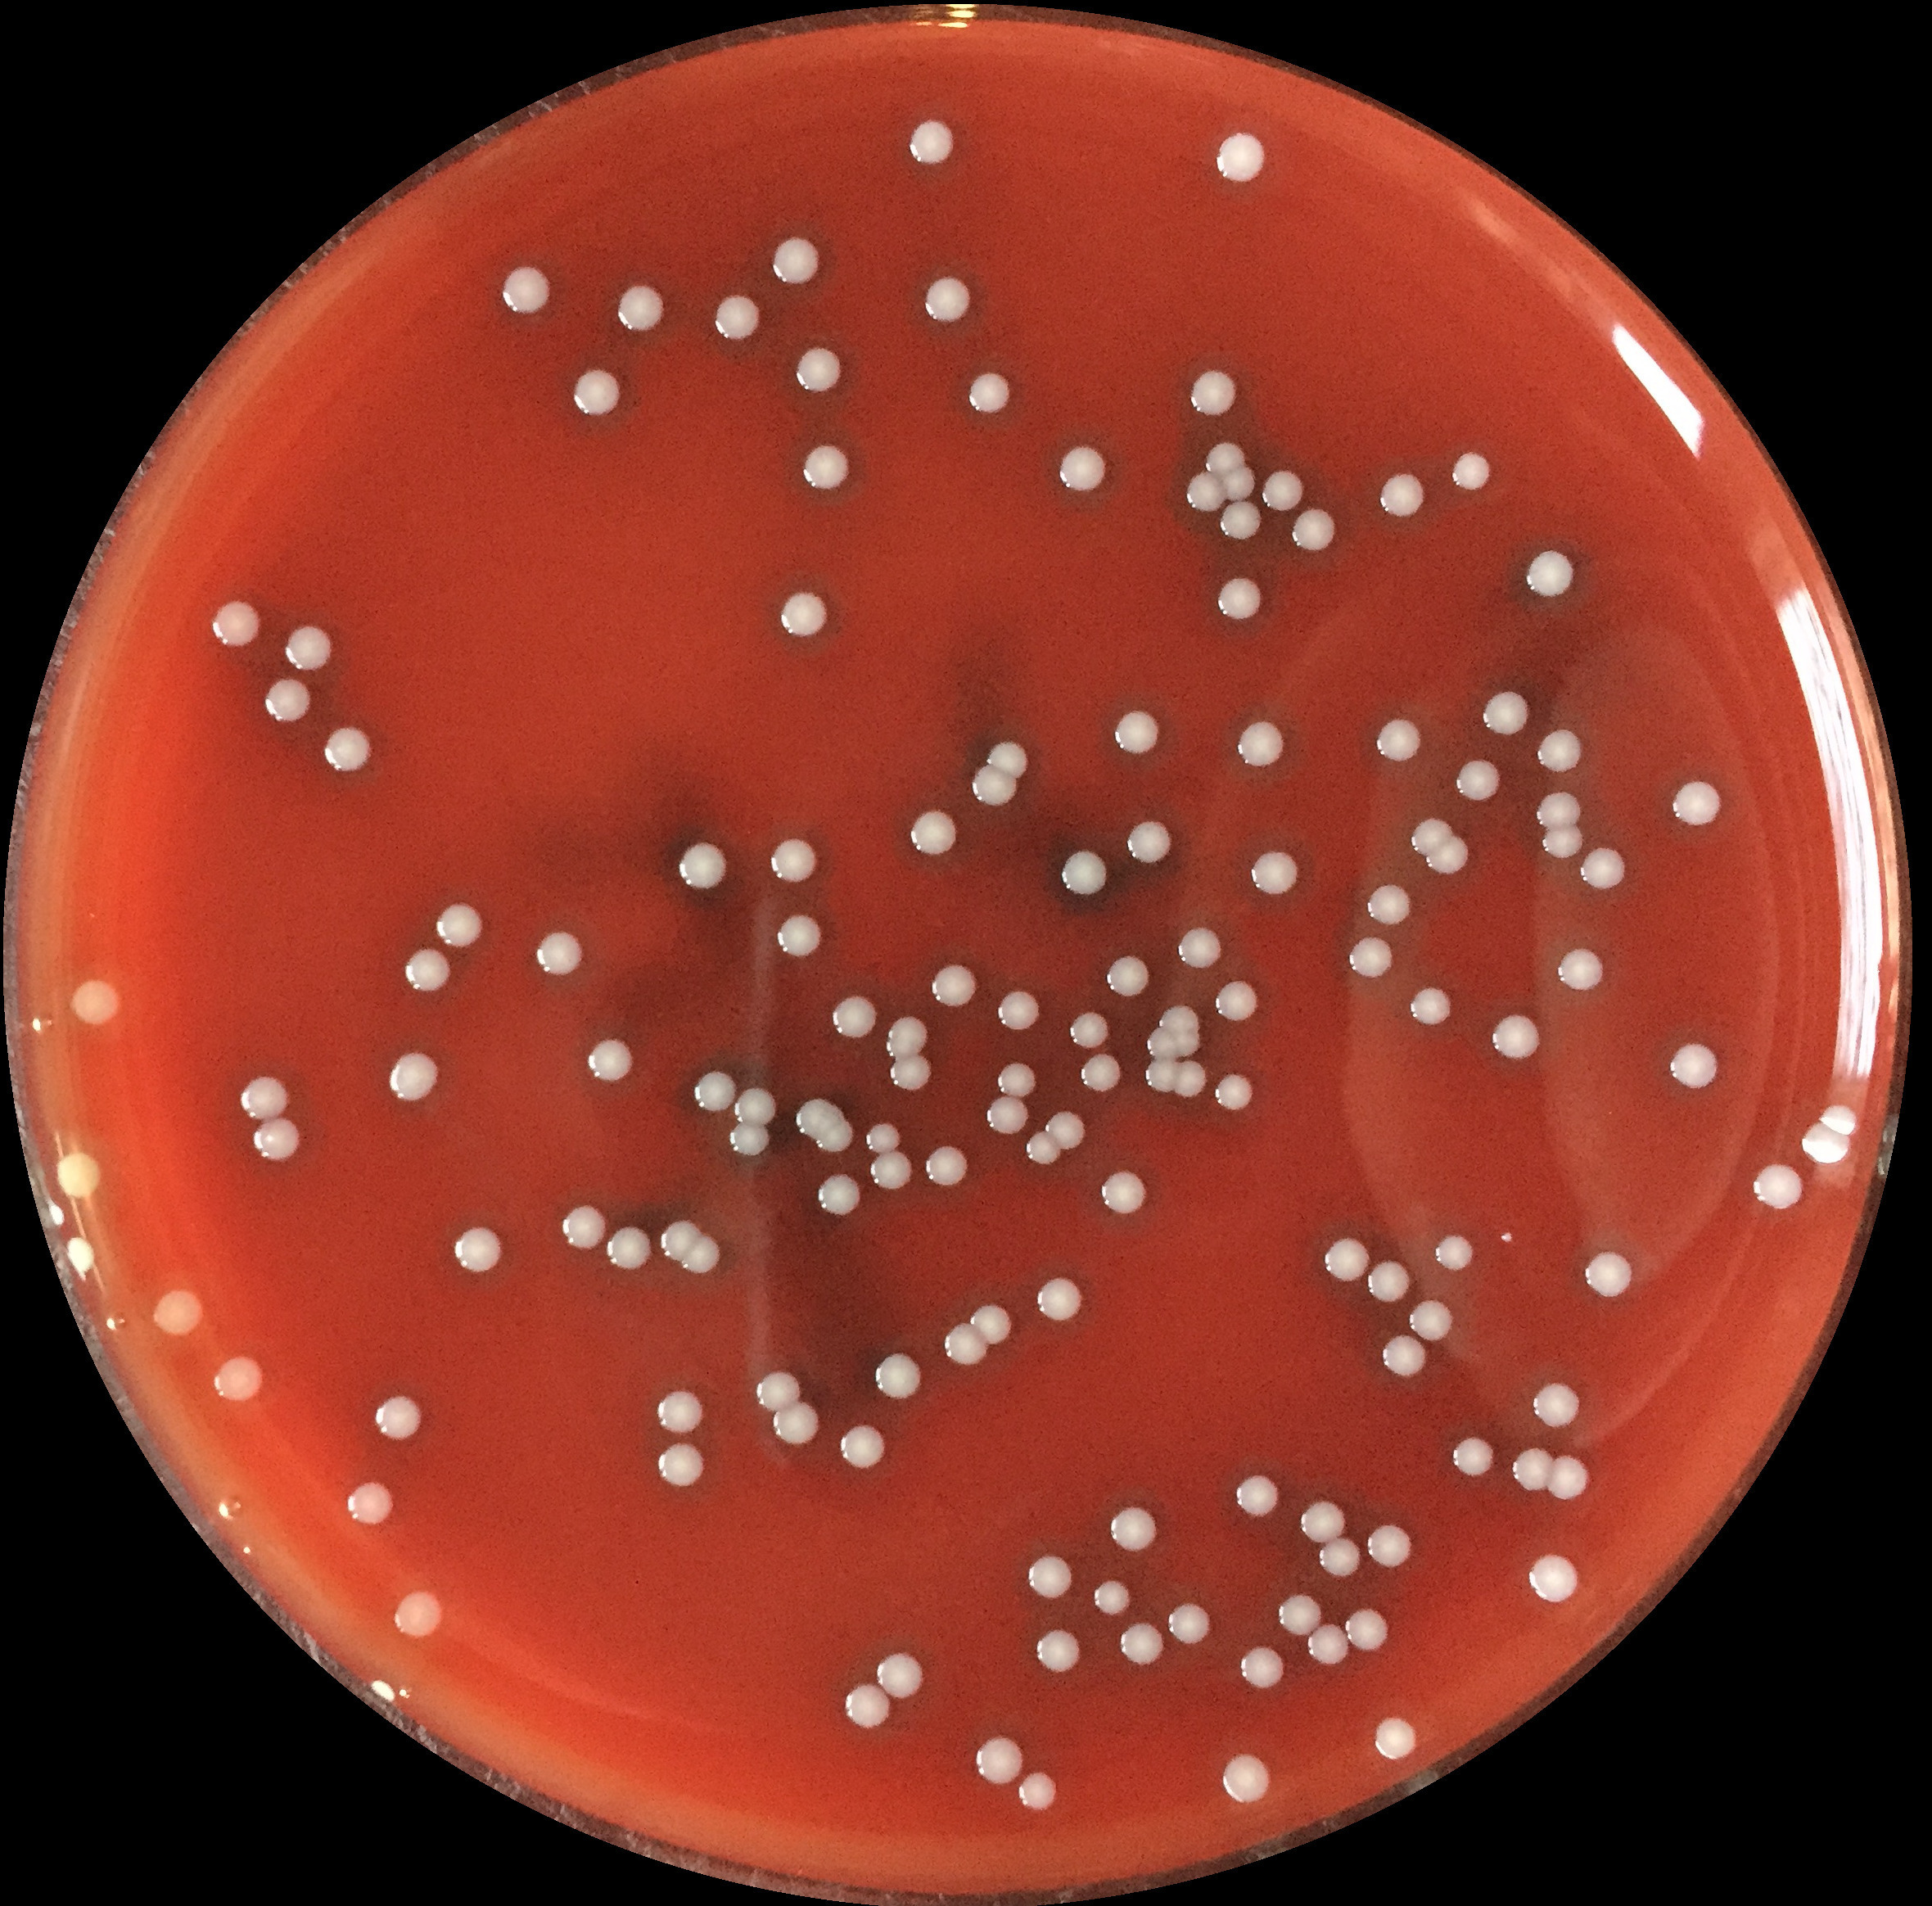sp21: (1524, 1550, 1585, 1608), (494, 264, 557, 319), (1052, 436, 1112, 494), (707, 288, 766, 344), (1522, 545, 1578, 604), (384, 1051, 443, 1107), (972, 1733, 1031, 1789), (792, 440, 855, 492), (236, 1073, 298, 1126), (208, 595, 265, 651), (611, 283, 672, 335), (1663, 1040, 1724, 1093), (66, 977, 127, 1030), (319, 724, 380, 777), (867, 1351, 927, 1403), (569, 368, 625, 422), (777, 586, 831, 642), (1579, 1244, 1635, 1299), (450, 1222, 506, 1276), (1220, 1751, 1274, 1807), (1230, 719, 1288, 771), (531, 927, 588, 979), (675, 841, 735, 892), (1531, 1377, 1585, 1431), (766, 834, 822, 887), (51, 1150, 106, 1203), (654, 1438, 707, 1494), (1476, 689, 1534, 740), (1750, 1161, 1808, 1211), (810, 1169, 871, 1217), (1106, 1499, 1161, 1552), (826, 991, 880, 1044), (1218, 129, 1269, 185), (768, 234, 824, 285), (904, 806, 960, 857), (433, 901, 489, 951), (152, 1288, 208, 1339), (279, 623, 335, 674), (1031, 1271, 1084, 1323), (394, 1588, 447, 1641), (1110, 709, 1164, 759), (400, 944, 454, 995), (211, 1356, 265, 1407), (1162, 1599, 1213, 1653), (791, 344, 846, 393), (1244, 848, 1300, 897), (1377, 1330, 1433, 1379), (838, 1423, 894, 1471), (768, 1402, 826, 1449), (1093, 1168, 1150, 1215), (1452, 754, 1504, 805), (1668, 775, 1721, 826), (1557, 944, 1609, 995), (1363, 1519, 1415, 1569), (773, 911, 826, 962), (251, 1114, 304, 1164), (372, 1393, 424, 1443), (873, 1651, 925, 1702), (923, 276, 972, 330), (1403, 1295, 1457, 1344), (1230, 1470, 1285, 1519), (344, 1478, 398, 1527), (654, 1384, 703, 1438), (1030, 1628, 1084, 1677), (1574, 845, 1630, 892), (1120, 819, 1176, 866), (583, 1039, 639, 1086), (918, 1142, 974, 1189), (841, 1683, 897, 1730), (1532, 728, 1585, 777), (606, 1222, 654, 1274), (260, 675, 312, 724), (1058, 848, 1112, 895), (1363, 1257, 1417, 1304), (1799, 1121, 1853, 1168), (1487, 1014, 1543, 1059), (1187, 368, 1236, 419), (1379, 470, 1428, 520), (1344, 932, 1394, 981), (1239, 1642, 1288, 1693), (906, 117, 958, 164), (1213, 574, 1265, 621), (1370, 716, 1422, 763), (1117, 1621, 1169, 1669), (1363, 881, 1417, 927), (1023, 1553, 1077, 1599), (1290, 504, 1339, 553), (1297, 1499, 1346, 1548), (558, 1204, 607, 1253), (1372, 1714, 1421, 1763), (1445, 447, 1497, 492), (983, 737, 1035, 782), (967, 764, 1021, 808), (789, 1096, 843, 1140), (1101, 955, 1152, 1000), (1508, 1443, 1553, 1494), (1087, 1576, 1138, 1621), (1276, 1594, 1326, 1639), (1531, 791, 1585, 833), (1176, 925, 1223, 972), (1450, 1433, 1497, 1480), (1545, 1454, 1592, 1501), (658, 1218, 705, 1265), (756, 1368, 803, 1416), (1344, 1606, 1391, 1653), (1257, 468, 1305, 513), (1213, 979, 1262, 1025), (1323, 1232, 1368, 1281), (984, 1093, 1033, 1138), (1433, 1229, 1478, 1276), (969, 1302, 1014, 1349), (1305, 1621, 1351, 1669), (967, 368, 1011, 417), (1407, 983, 1456, 1026), (932, 963, 981, 1007), (942, 1321, 991, 1365), (888, 1052, 937, 1096), (1405, 815, 1456, 857), (1218, 497, 1264, 543), (1042, 1107, 1087, 1152), (995, 988, 1042, 1032), (1183, 468, 1227, 513), (1211, 1070, 1257, 1114), (693, 1072, 738, 1115), (867, 1150, 913, 1194), (1019, 1772, 1063, 1817), (728, 1119, 777, 1159), (1426, 838, 1471, 880), (735, 1084, 780, 1126), (1066, 1009, 1113, 1049), (1075, 1052, 1122, 1093), (1817, 1100, 1864, 1140), (679, 1236, 723, 1278), (1539, 820, 1585, 860), (880, 1014, 934, 1047), (1318, 1534, 1360, 1576), (1202, 442, 1248, 480), (63, 1232, 101, 1278), (1218, 463, 1258, 503), (862, 1121, 904, 1159), (1021, 1131, 1066, 1166), (995, 1061, 1037, 1098), (1157, 1000, 1202, 1033), (1143, 1025, 1182, 1063), (1166, 1023, 1204, 1061), (1145, 1056, 1180, 1096), (1171, 1063, 1208, 1100), (815, 1121, 855, 1154), (368, 1677, 405, 1707), (883, 1037, 925, 1061), (47, 1199, 72, 1227), (1490, 1229, 1515, 1246)
